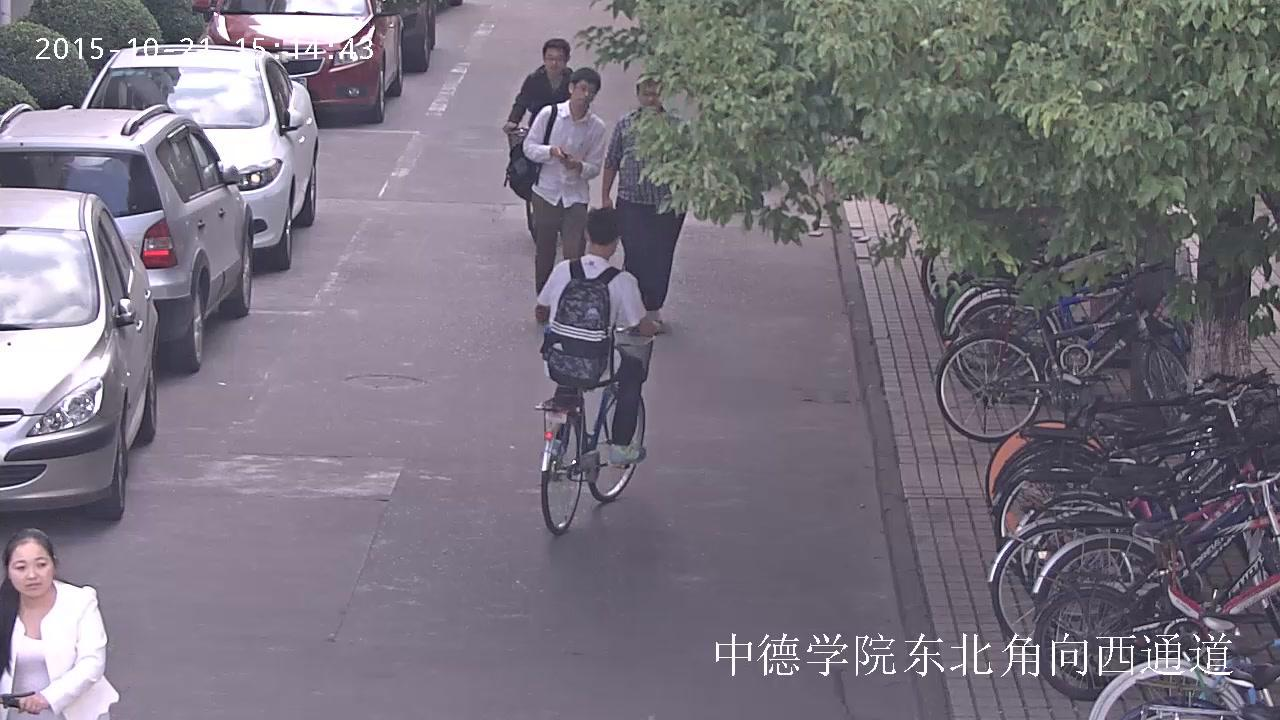person: (532, 206, 659, 536), (532, 206, 659, 467), (503, 68, 607, 322), (0, 528, 120, 720), (602, 73, 687, 336), (501, 35, 574, 243), (502, 36, 573, 136)
